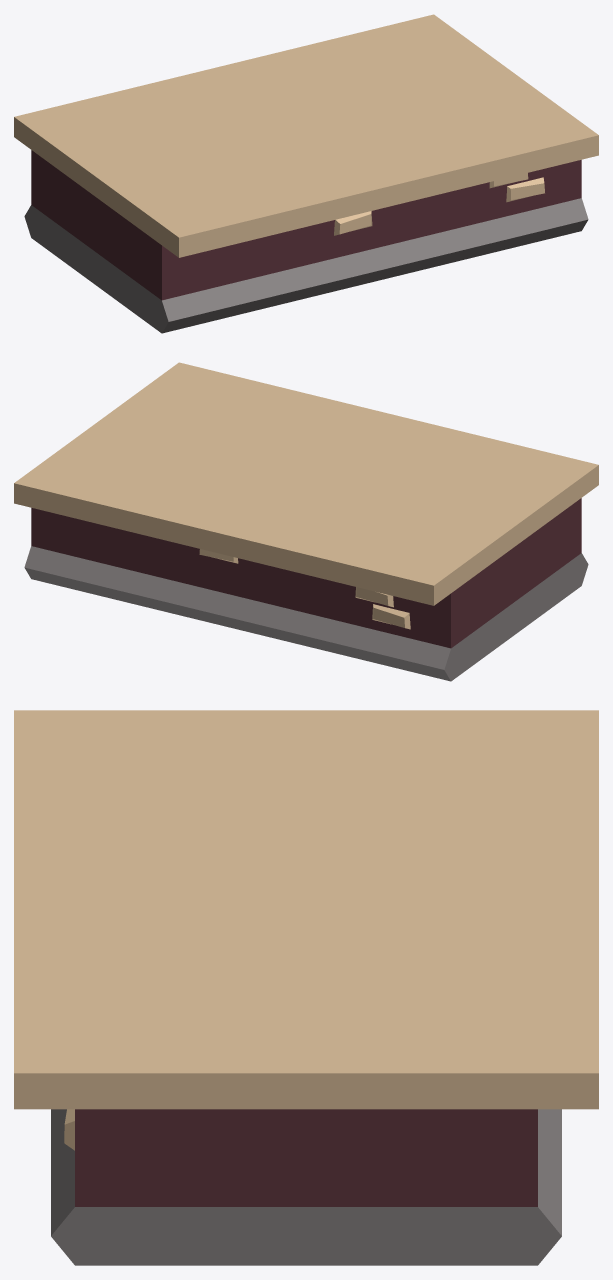
File: SM_Aqueduct_Medium_Segment_Empire.fbx
The picture shows the model from 3 angles, top to bottom: view 1: azimuth 30°, elevation 25°; view 2: azimuth 150°, elevation 25°; view 3: azimuth 270°, elevation 25°; orthographic projection. The views are drawn at different scales.
Visible parts, largest first — view 1: SM_Aqueduct_Medium_Segment_Empire; view 2: SM_Aqueduct_Medium_Segment_Empire; view 3: SM_Aqueduct_Medium_Segment_Empire.
Part boxes in pixels (x1,y1,x2,y2): SM_Aqueduct_Medium_Segment_Empire: (14, 14, 598, 333); SM_Aqueduct_Medium_Segment_Empire: (14, 362, 598, 681); SM_Aqueduct_Medium_Segment_Empire: (14, 710, 598, 1265).
Bounding box in the file's own units: 5 × 1.23 × 3.4.
